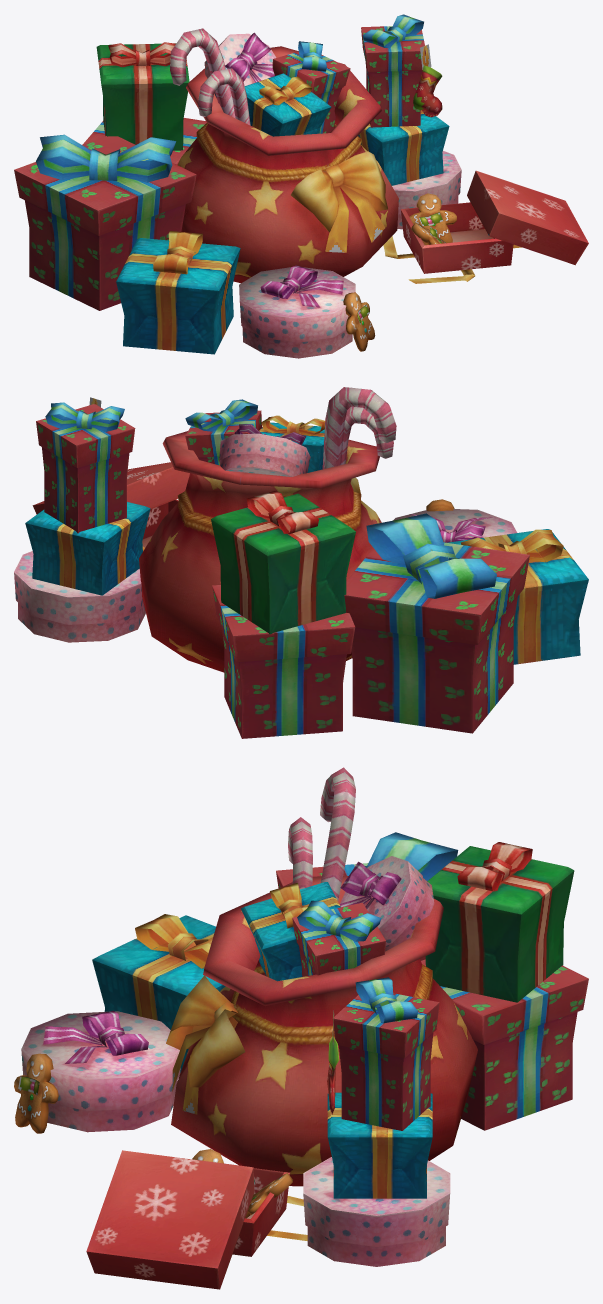
3 renders of one model, top to bottom at view 1: azimuth 30°, elevation 25°; view 2: azimuth 150°, elevation 25°; view 3: azimuth 270°, elevation 25°, orthographic. The views are drawn at different scales.
Parts seen in each view (by area): view 1: UC13; view 2: UC13; view 3: UC13.
Part boxes in pixels (x1,y1,x2,y2): UC13: (14,14,588,358); UC13: (14,387,588,738); UC13: (14,767,588,1289).
Size of the model in its own units: 60.85 by 30.34 by 48.96.
